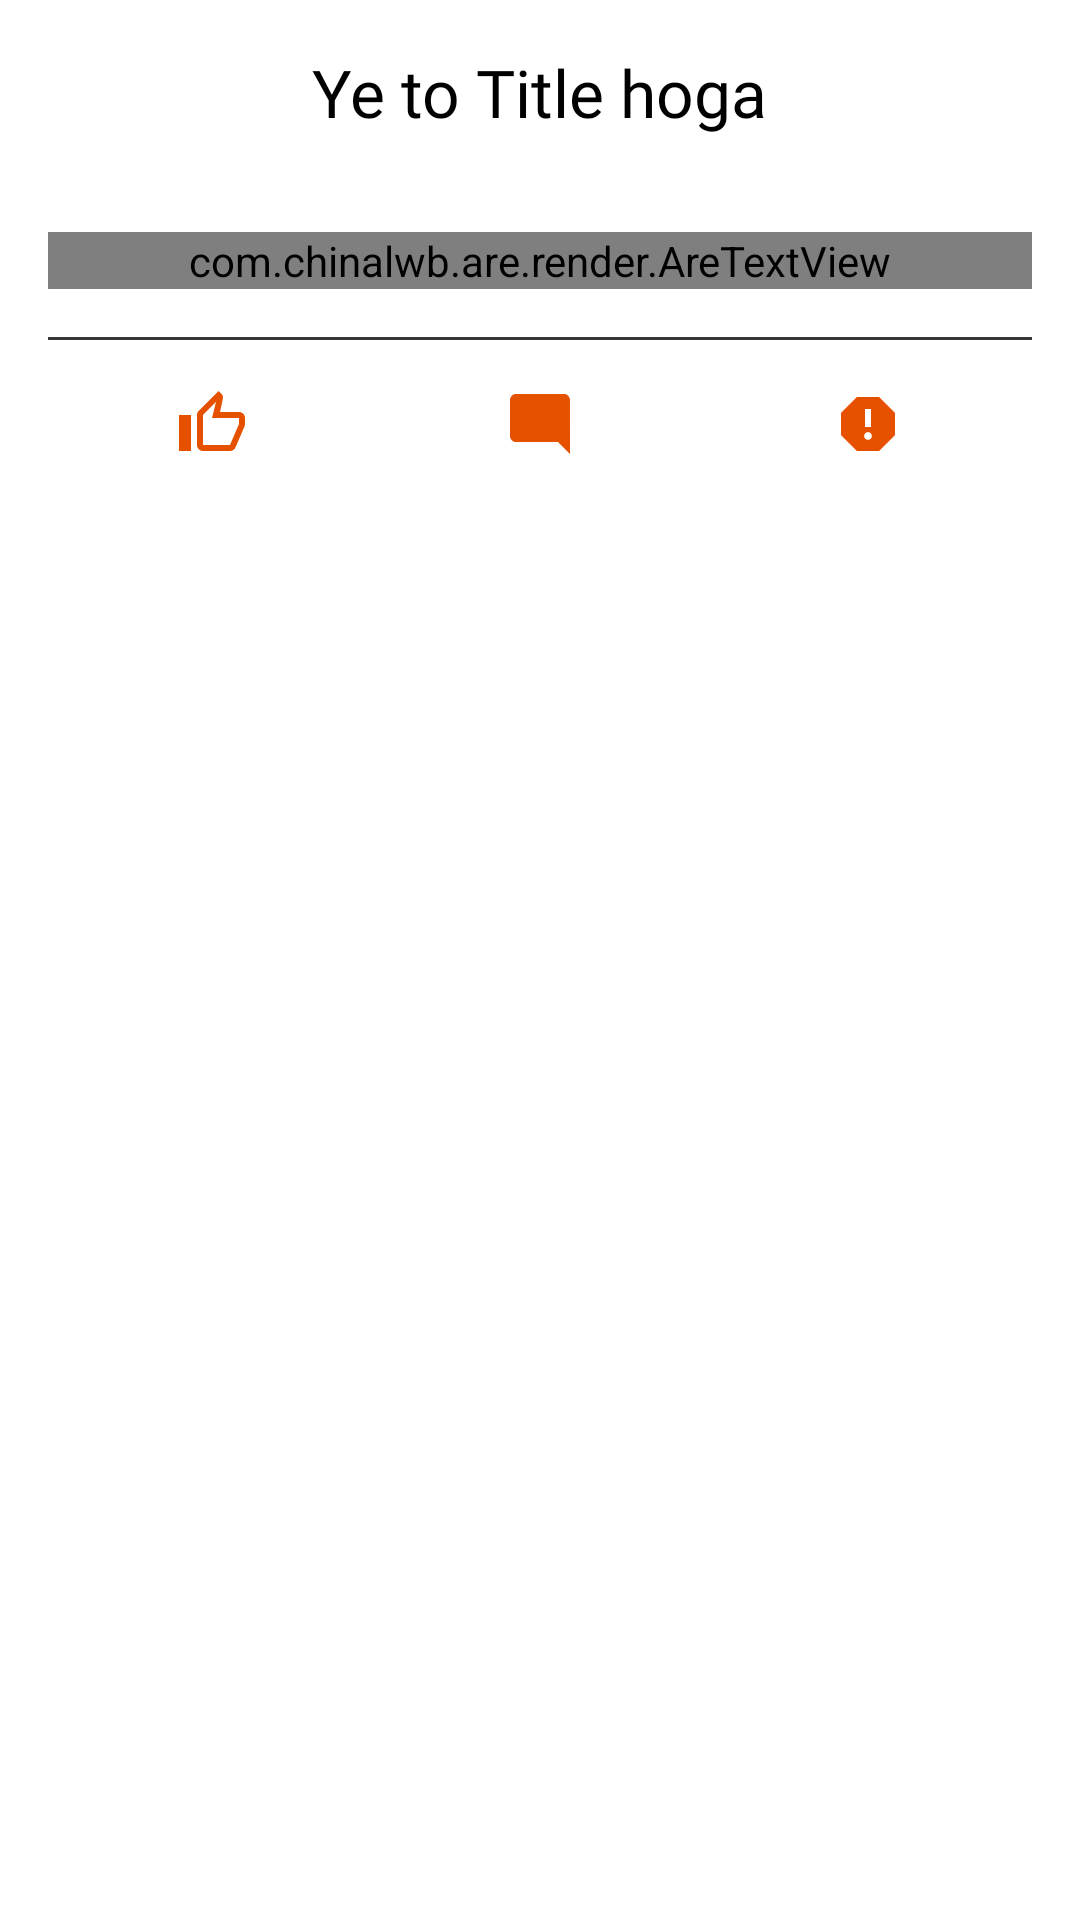

Icons on this 1080px×1920px Android screen, each with its box as (left=x1, top=y1, right=x2, bottom=y2):
mode comment: (left=510, top=394, right=570, bottom=454)
report: (left=841, top=397, right=895, bottom=451)
thumb up: (left=179, top=391, right=245, bottom=451)
